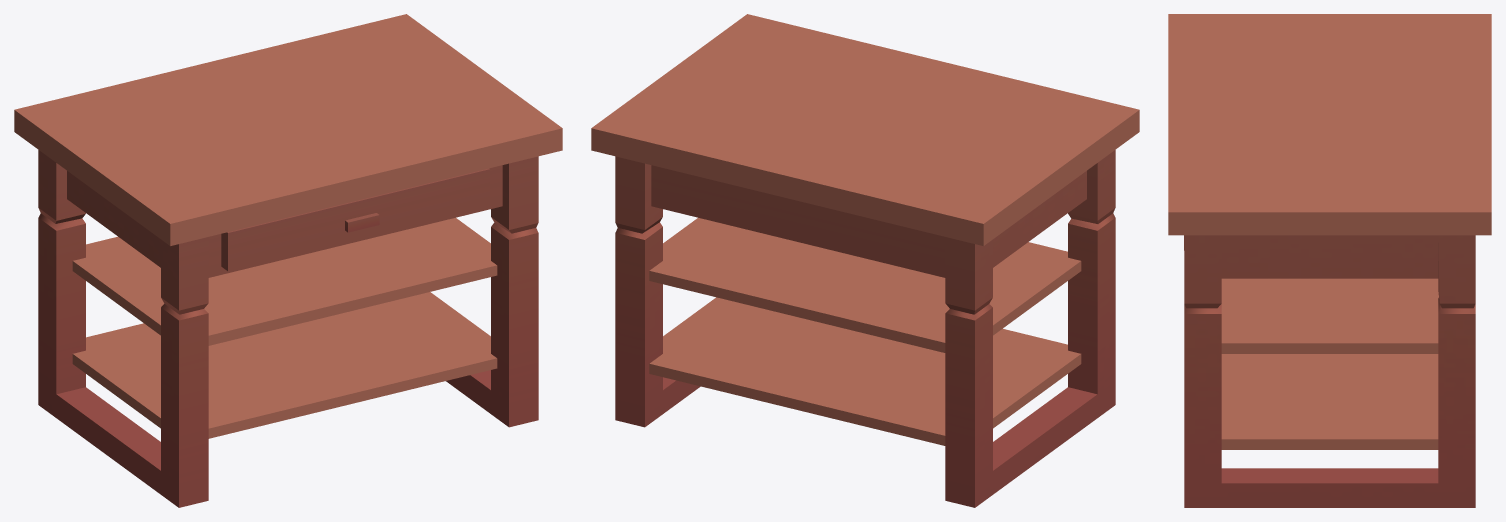
File: SM_Shelf_Entrance_1_01.fbx
3 renders of one model, left to right at view 1: azimuth 30°, elevation 25°; view 2: azimuth 150°, elevation 25°; view 3: azimuth 270°, elevation 25°, orthographic. The views are drawn at different scales.
Visible parts, largest first — view 1: SM_Shelf_Entrance_1_01; view 2: SM_Shelf_Entrance_1_01; view 3: SM_Shelf_Entrance_1_01.
Part boxes in pixels (x1,y1,x2,y2): SM_Shelf_Entrance_1_01: (14, 14, 562, 507); SM_Shelf_Entrance_1_01: (591, 14, 1139, 507); SM_Shelf_Entrance_1_01: (1168, 14, 1491, 507).
Size of the model in its own units: 145 by 104 by 99.76.
